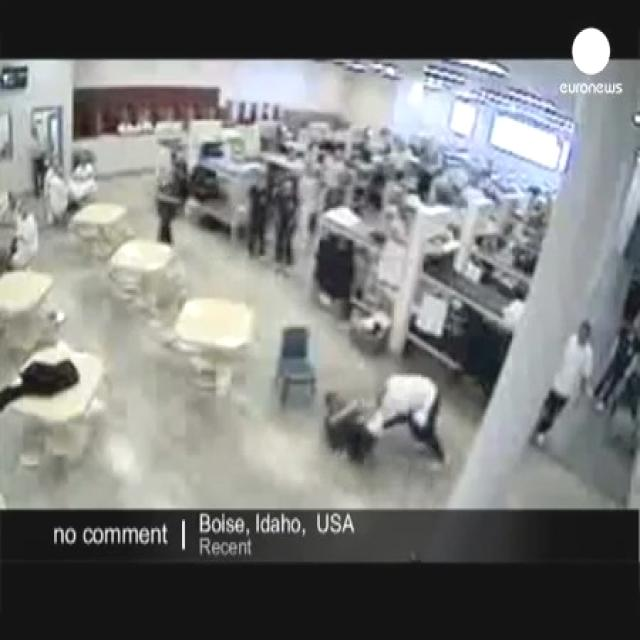fight: (322, 368, 451, 475)
